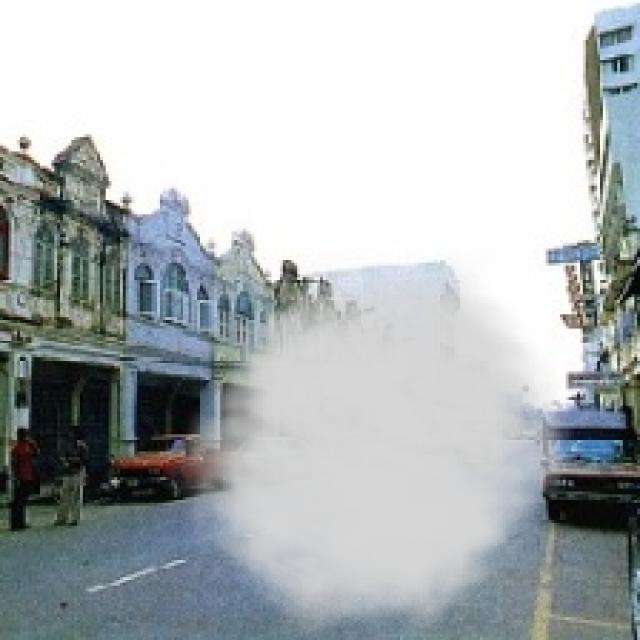smoke: (165, 252, 586, 637)
